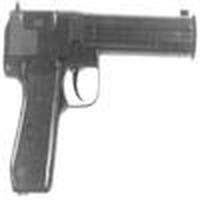gun: (4, 11, 200, 189)
